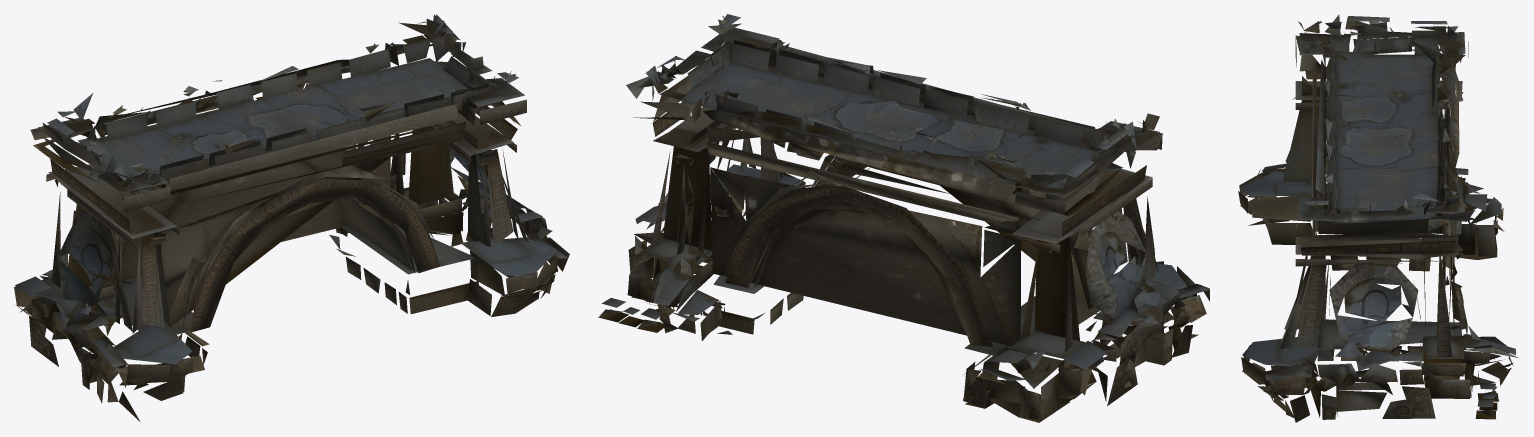
Rendered from ch3_massive_bridge_section_LOD3.glb.
The picture shows the model from 3 angles, left to right: view 1: azimuth 30°, elevation 25°; view 2: azimuth 150°, elevation 25°; view 3: azimuth 270°, elevation 25°; orthographic projection. The views are drawn at different scales.
Visible parts, largest first — view 1: tripo_node_51e6d6be-b1e7-401e-8ef0-a97a538cec37; view 2: tripo_node_51e6d6be-b1e7-401e-8ef0-a97a538cec37; view 3: tripo_node_51e6d6be-b1e7-401e-8ef0-a97a538cec37.
Boxes of the visible parts, x1=… form: tripo_node_51e6d6be-b1e7-401e-8ef0-a97a538cec37: x1=14, y1=14, x2=569, y2=422; tripo_node_51e6d6be-b1e7-401e-8ef0-a97a538cec37: x1=598, y1=14, x2=1209, y2=422; tripo_node_51e6d6be-b1e7-401e-8ef0-a97a538cec37: x1=1238, y1=14, x2=1518, y2=422.
Bounding box in the file's own units: 1.02 × 0.4933 × 0.5543.
Materials: 1 (1 with a texture image).
